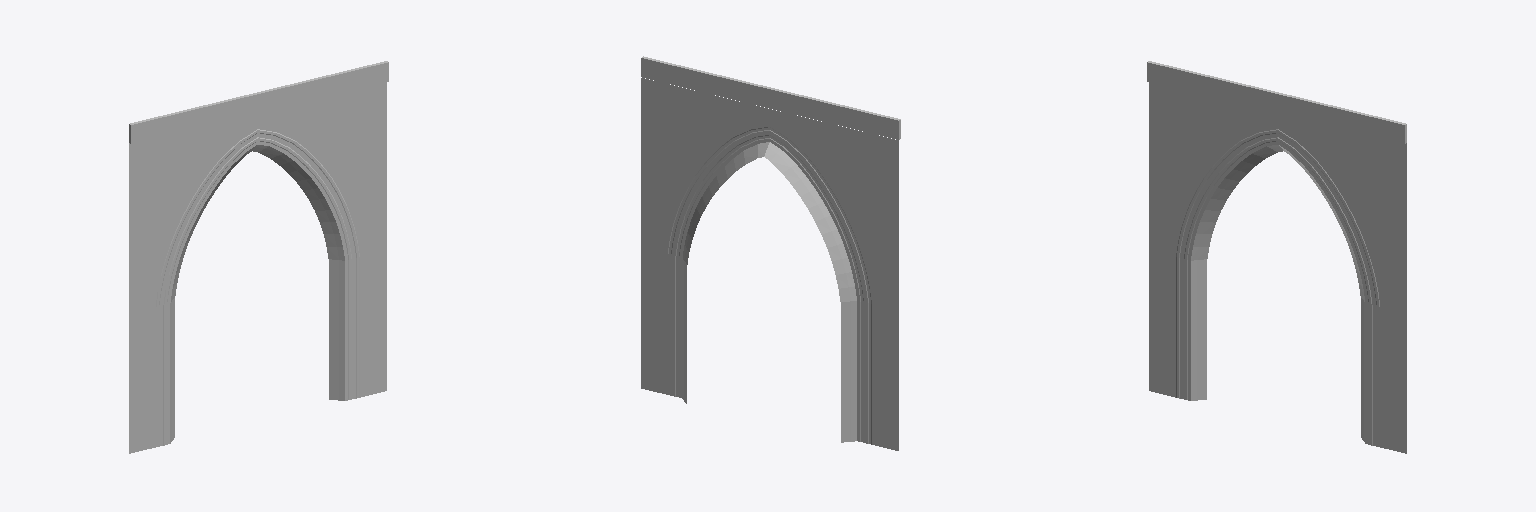
Rendered from gate.obj.
3 renders of one model, left to right at view 1: azimuth 30°, elevation 25°; view 2: azimuth 150°, elevation 25°; view 3: azimuth 330°, elevation 25°, orthographic.
Parts seen in each view (by area): view 1: Red_Bricks_Texture-Xn88-_Wq0-transformed, Plane.002; view 2: Red_Bricks_Texture-Xn88-_Wq0-transformed, Plane.002; view 3: Red_Bricks_Texture-Xn88-_Wq0-transformed, Plane.002.
Part boxes in pixels (x1,y1,x2,y2): Red_Bricks_Texture-Xn88-_Wq0-transformed: (129,82,386,453); Plane.002: (129,61,388,144); Red_Bricks_Texture-Xn88-_Wq0-transformed: (641,78,898,450); Plane.002: (641,56,900,139); Red_Bricks_Texture-Xn88-_Wq0-transformed: (1149,82,1406,453); Plane.002: (1147,61,1406,144).
Bounding box in the file's own units: 6.74 × 8.25 × 0.3641.